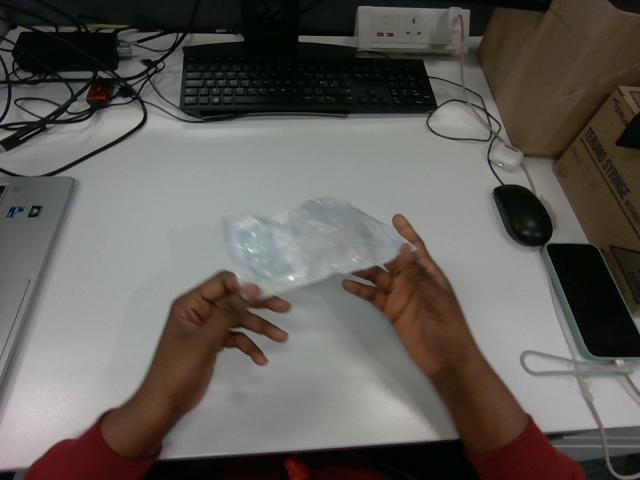gallipot: (224, 198, 405, 295)
